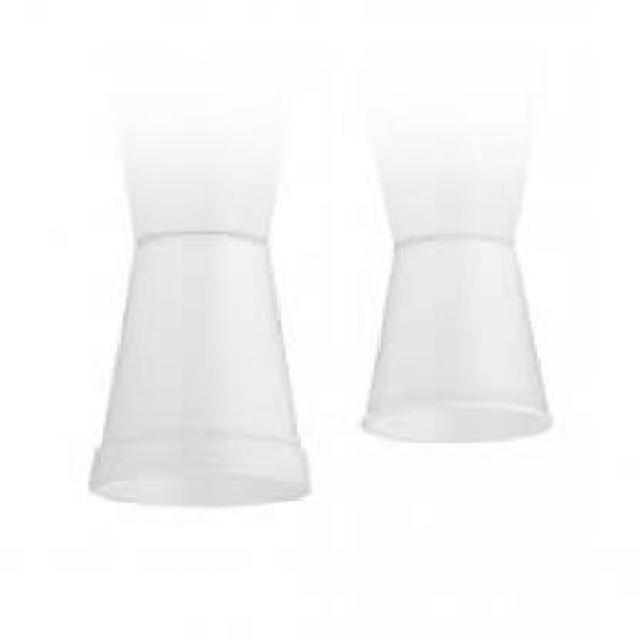PAPER: (86, 238, 306, 512), (361, 234, 545, 446)
